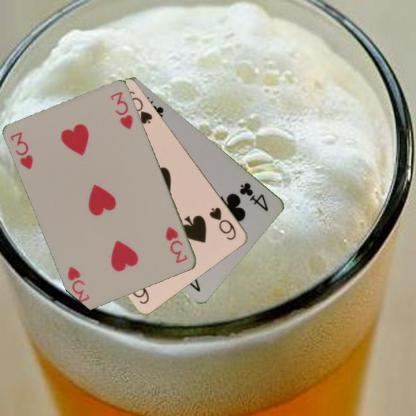3h: (7, 129, 35, 172), (163, 224, 189, 265)
4c: (237, 180, 270, 213)
6s: (207, 204, 238, 242)
